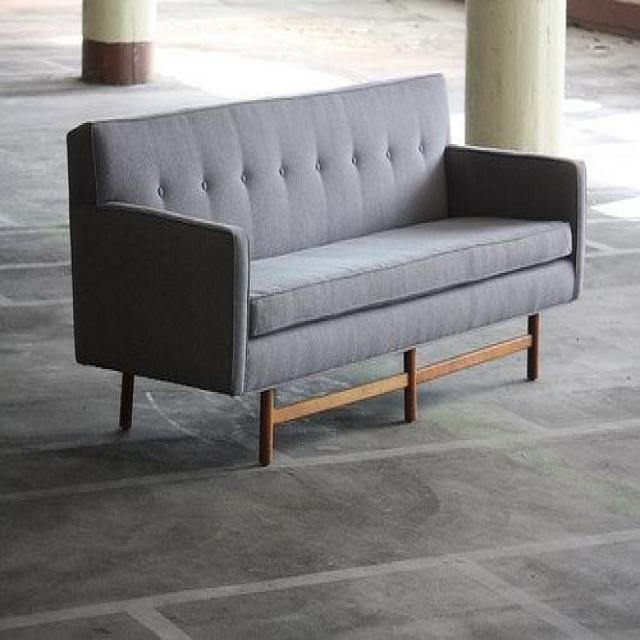sofa: (66, 73, 588, 468)
